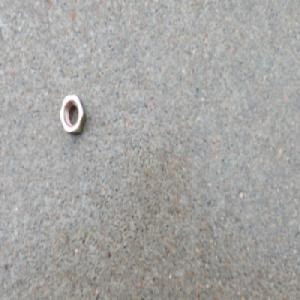Nut: (59, 95, 85, 137)
